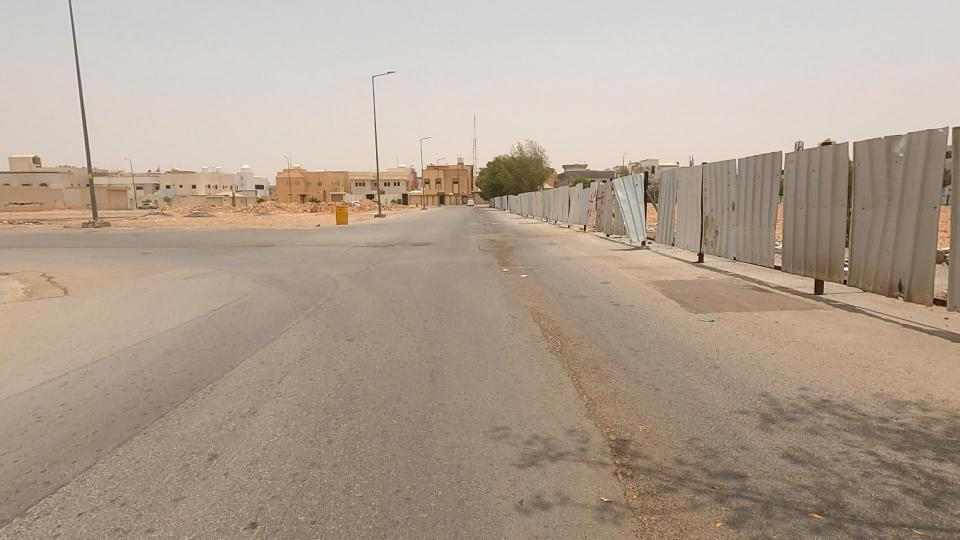POTHOLES: (486, 257, 646, 464), (459, 224, 583, 375), (377, 209, 462, 282)
